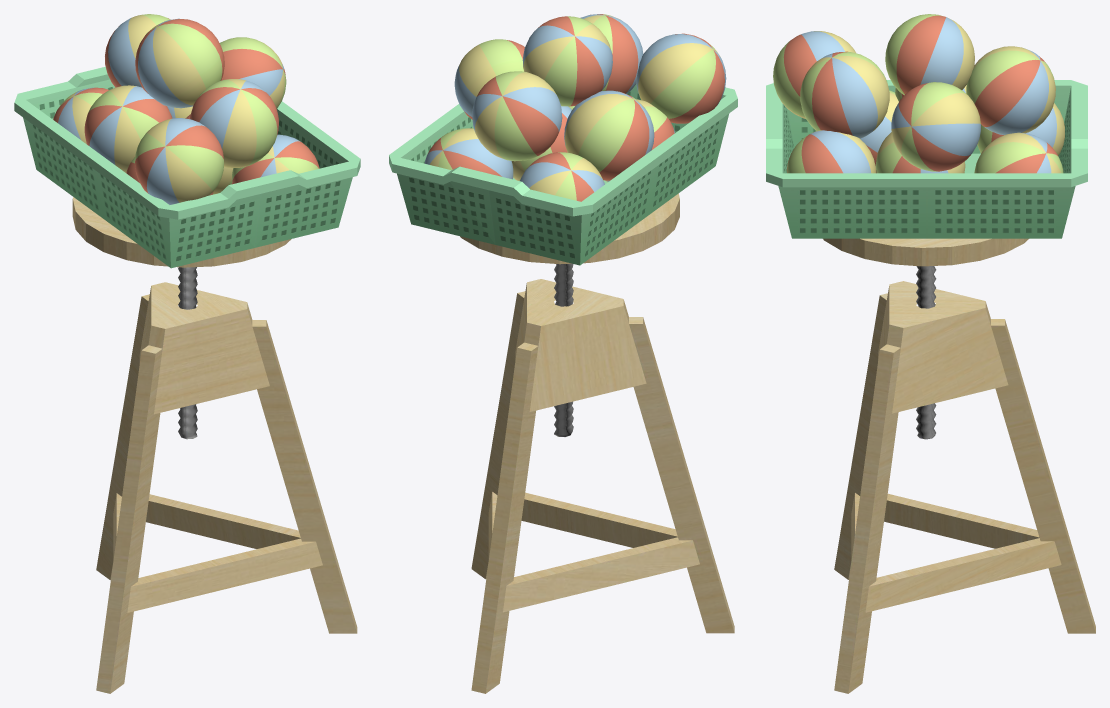
The model's file is basket_baseball.glb.
3 views of the same model, side by side, from view 1: azimuth 30°, elevation 25°; view 2: azimuth 150°, elevation 25°; view 3: azimuth 270°, elevation 25° (orthographic).
Parts seen in each view (by area): view 1: bar_stool:base_1, Box001, Sphere007, Sphere011, Sphere008, Sphere006, Sphere012, Sphere004, Sphere009, Sphere001; view 2: bar_stool:base_1, Box001, Sphere004, Sphere011, Sphere007, Sphere006, Sphere001, Sphere012, Sphere002, Sphere008, Sphere003, Sphere005; view 3: bar_stool:base_1, Box001, Sphere012, Sphere004, Sphere008, Sphere007, Sphere009, Sphere011, Sphere002, Sphere003, Sphere001, Sphere005.
Part boxes in pixels (box(x1,y1,x2,y2)): bar_stool:base_1: box(72, 197, 357, 693); Box001: box(14, 66, 360, 268); Sphere007: box(135, 18, 224, 108); Sphere011: box(135, 118, 224, 204); Sphere008: box(190, 79, 278, 167); Sphere006: box(84, 85, 172, 172); Sphere012: box(219, 37, 286, 108); Sphere004: box(105, 14, 170, 87); Sphere009: box(232, 134, 319, 184); Sphere001: box(53, 87, 108, 143); bar_stool:base_1: box(460, 193, 734, 693); Box001: box(389, 84, 737, 265); Sphere004: box(472, 71, 562, 161); Sphere011: box(636, 33, 726, 123); Sphere007: box(522, 16, 612, 106); Sphere006: box(564, 90, 654, 180); Sphere001: box(520, 152, 604, 201); Sphere012: box(454, 39, 524, 119); Sphere002: box(424, 128, 513, 179); Sphere008: box(580, 14, 643, 93); Sphere003: box(511, 106, 571, 180); Sphere005: box(605, 99, 674, 182); bar_stool:base_1: box(823, 238, 1095, 693); Box001: box(766, 80, 1087, 238); Sphere012: box(891, 82, 980, 171); Sphere004: box(966, 46, 1055, 135); Sphere008: box(800, 51, 889, 138); Sphere007: box(885, 14, 974, 95); Sphere009: box(786, 130, 875, 173); Sphere011: box(773, 31, 855, 118); Sphere002: box(974, 132, 1063, 173); Sphere003: box(875, 132, 965, 173); Sphere001: box(977, 103, 1064, 155); Sphere005: box(860, 90, 898, 173).
Size of the model in its own units: 1.62 by 3.6 by 1.77.
4 materials, 3 textured.
